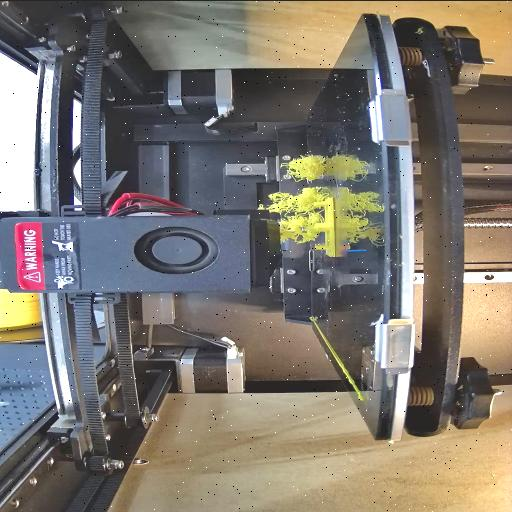spaghetti: (265, 186, 324, 240), (280, 149, 330, 181)
